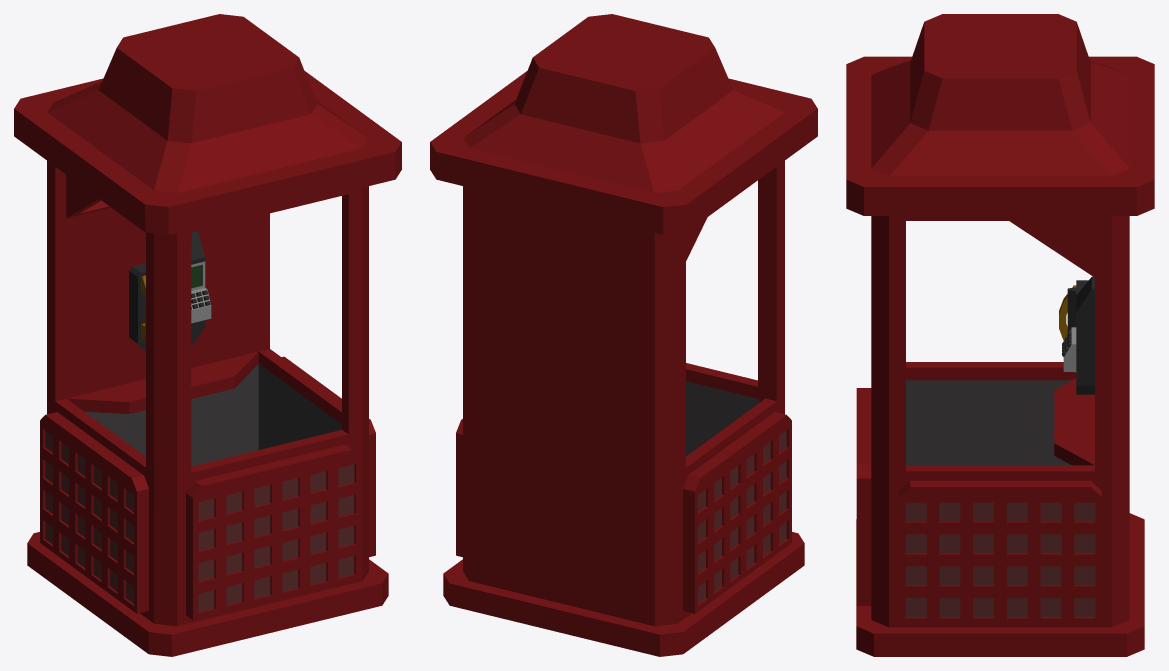
Rendered from Telephone Booth.fbx.
3 views of the same model, side by side, from view 1: azimuth 30°, elevation 25°; view 2: azimuth 150°, elevation 25°; view 3: azimuth 270°, elevation 25° (orthographic). The views are drawn at different scales.
Visible parts, largest first — view 1: Telephone Booth; view 2: Telephone Booth; view 3: Telephone Booth.
Boxes of the visible parts, x1,y1,x2,y2 form: Telephone Booth: (14,14,401,656); Telephone Booth: (430,14,817,656); Telephone Booth: (846,14,1154,656).
Bounding box in the file's own units: 1.45 × 1.45 × 2.85.
